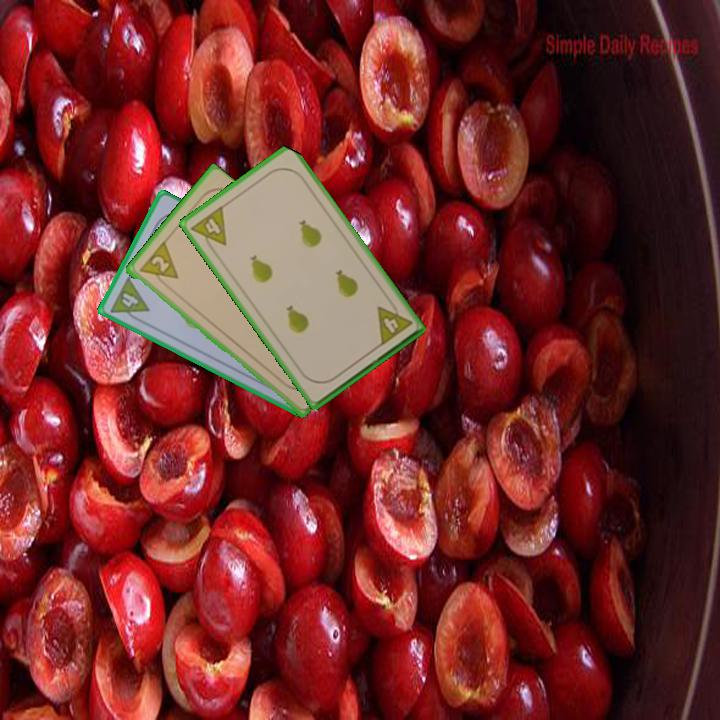2p: (135, 239, 181, 290)
4p: (107, 274, 152, 326), (187, 202, 229, 256), (373, 296, 415, 349)
